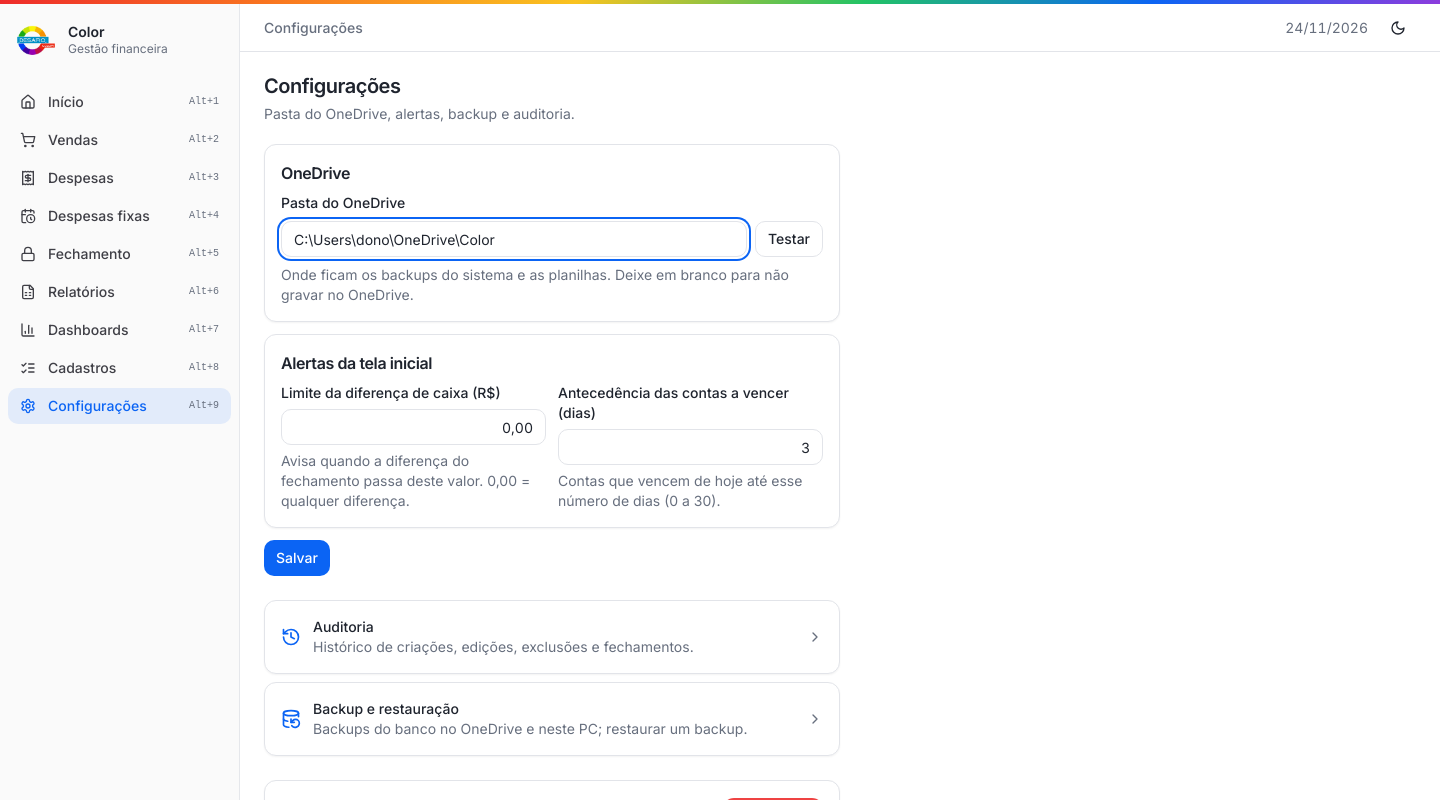
Test case: FR-33: Configurações form › FR-33: days outside 0–30 are refused with the shared schema's message
Expected: the field labelled "Pasta do OneDrive" holds "C:\\Users\\dono\\OneDrive\\Color", [281,221,747,257]
Replace the text in the field labelled "Antecedência das contas a vencer (dias)" with "45" at (690, 447), box [558,429,823,465]
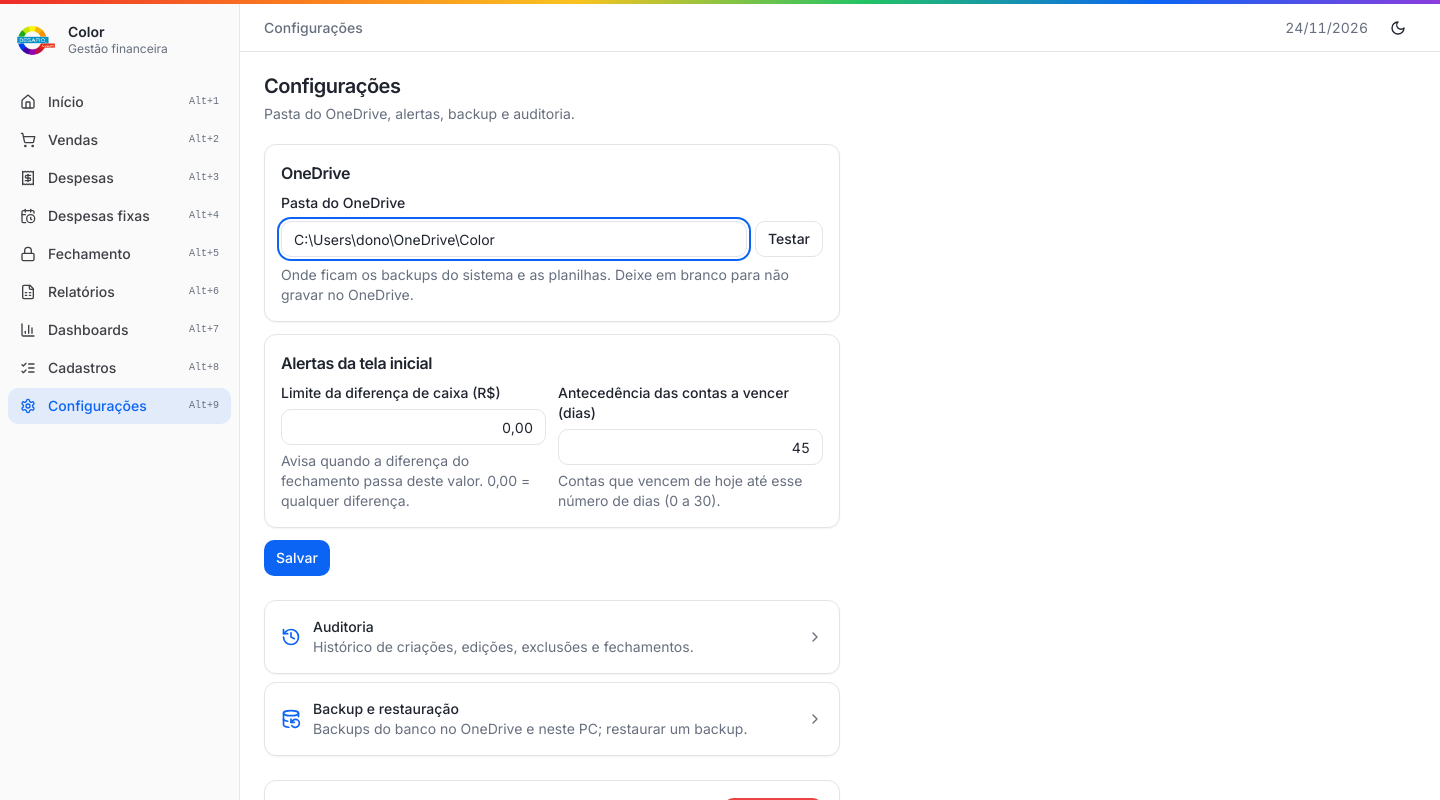
Submit the form named "Configurações", box [264,144,840,576]
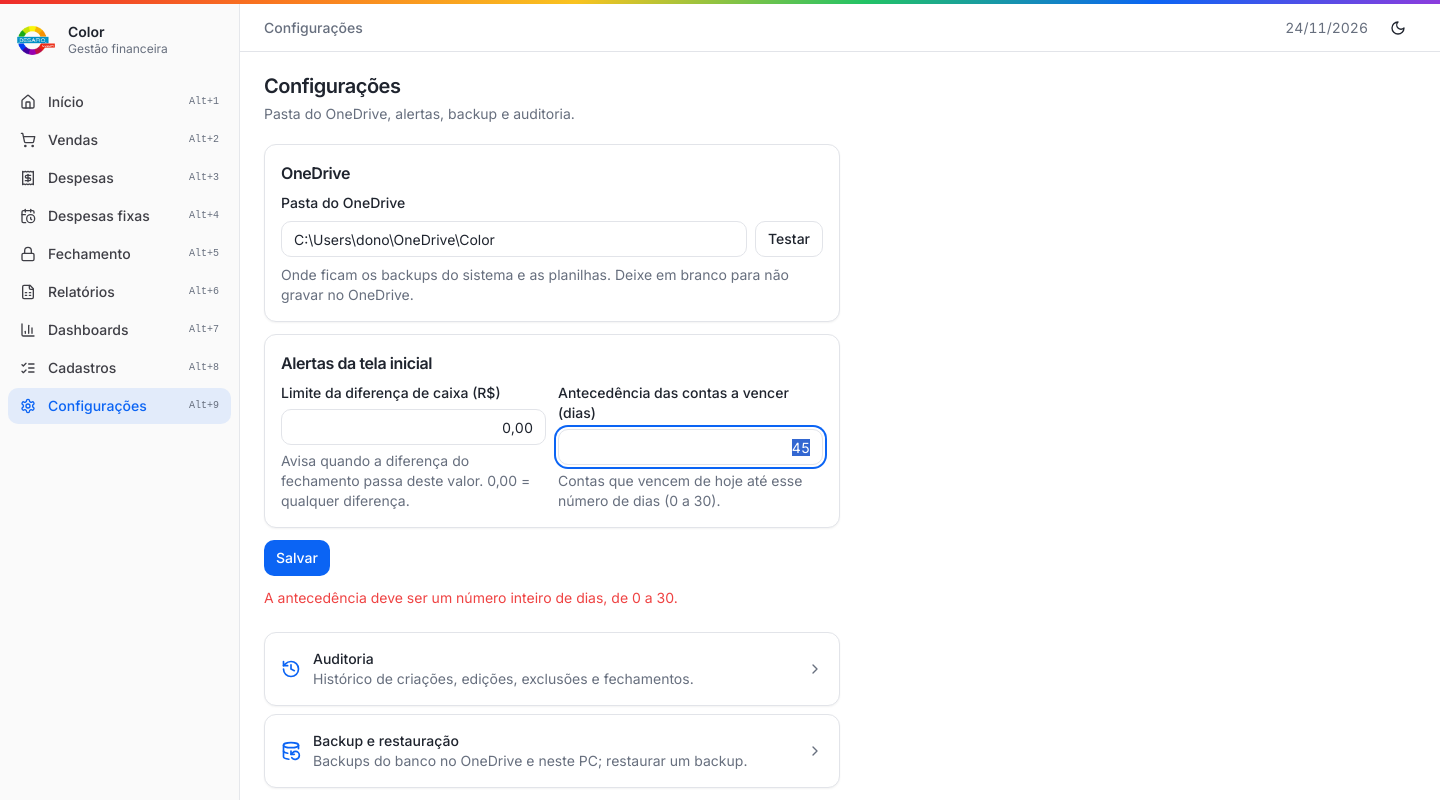
Expected: the message reads "A antecedência deve ser um número inteiro de dias, de 0 a 30.", [264,589,678,606]
